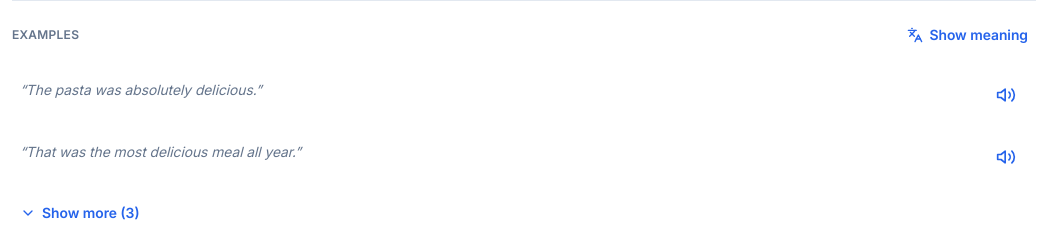
Test: ExampleSentences › keeps the translation hidden until it is asked for
The width and height of the screenshot is (1048, 247).
Expected: the text "Món mì rất ngon." is not shown
Click the button "Show meaning": (968, 35) top-left (899, 13), bottom-right (1036, 57)
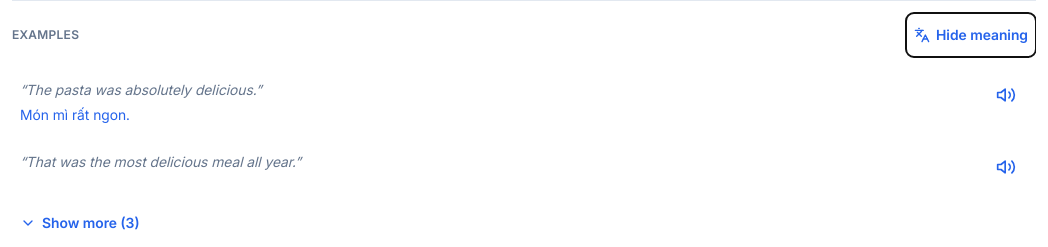
Expected: the text "Món mì rất ngon." is shown, top-left (20, 106), bottom-right (130, 123)
Click the button "Hide meaning": (971, 35) top-left (906, 13), bottom-right (1036, 57)
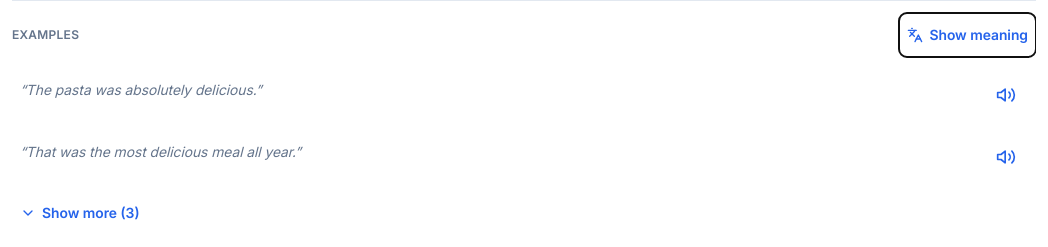
Expected: the text "Món mì rất ngon." is gone
